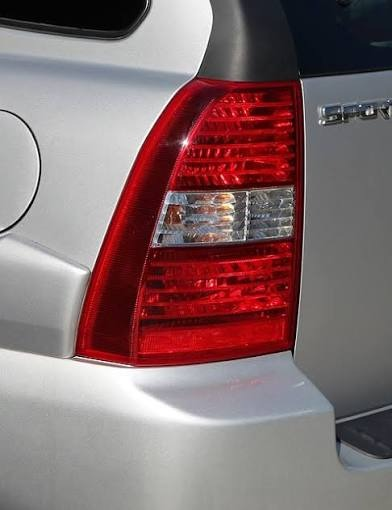car: (10, 2, 391, 496)
